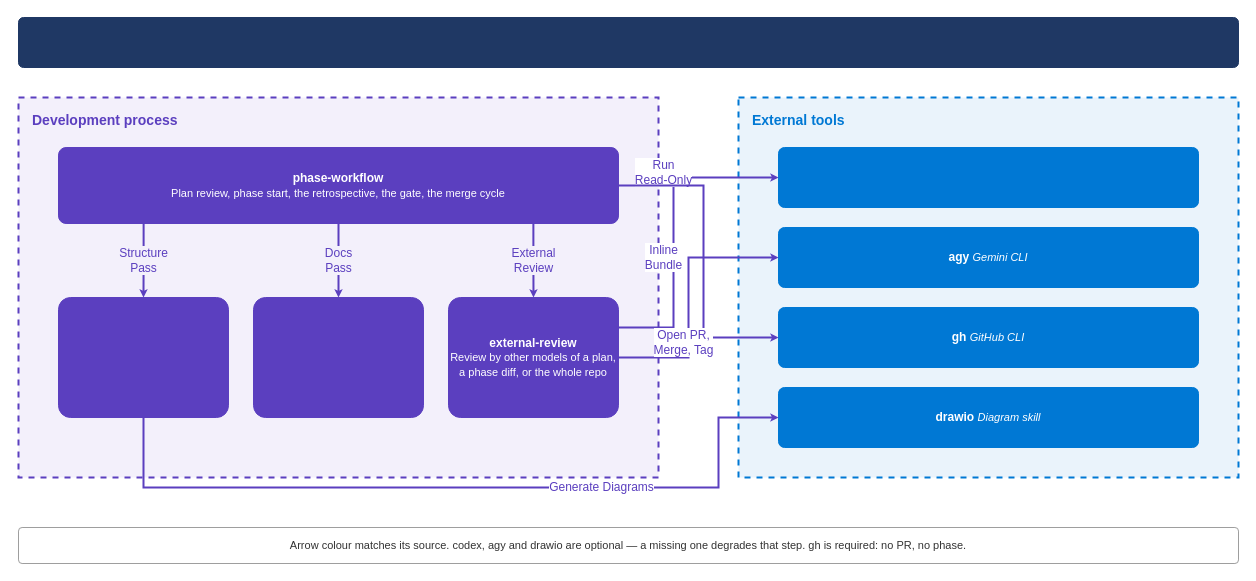
Some shapes in this 1256 by 581 pixel diagram are drawn without their labels. Here are the shapes that lost their labels. From the top down, the centre of each, then its label:
(x=628, y=42): Module map
(x=988, y=177): codex OpenAI Codex CLI
(x=143, y=357): design-review Module table and six structure checks, at plan time and phase end
(x=338, y=357): project-docs Roadmap files on request, their checks, and the name check
